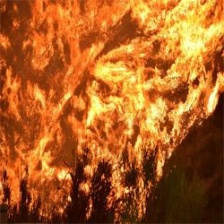fire: (1, 2, 223, 212)
